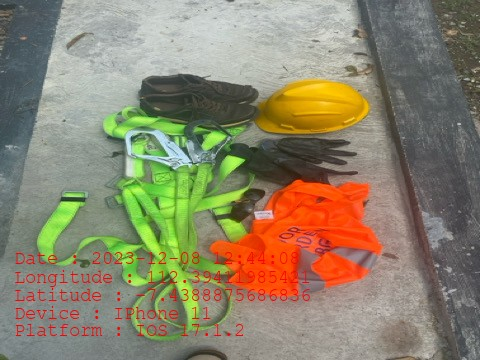HELM: (258, 79, 369, 135)
SEPATU: (139, 74, 257, 126)
